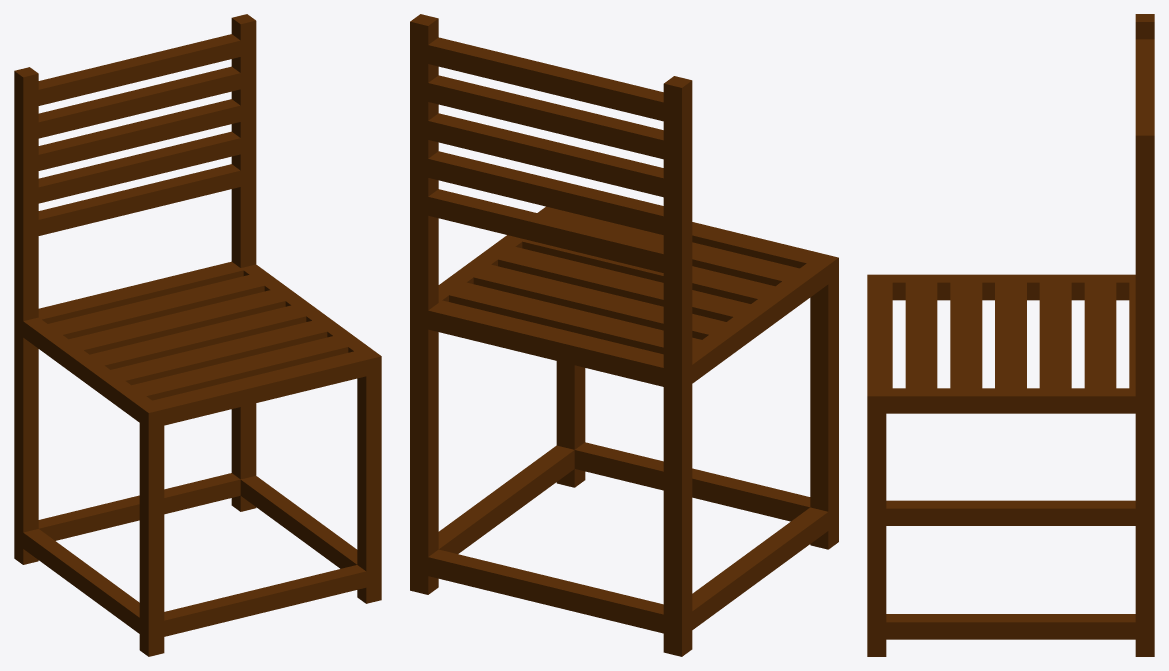
The model's file is Chair_Normal.obj.
3 renders of one model, left to right at view 1: azimuth 30°, elevation 25°; view 2: azimuth 150°, elevation 25°; view 3: azimuth 270°, elevation 25°, orthographic. The views are drawn at different scales.
Size of the model in its own units: 4.5 by 9 by 4.5.
1 material, 1 textured.
